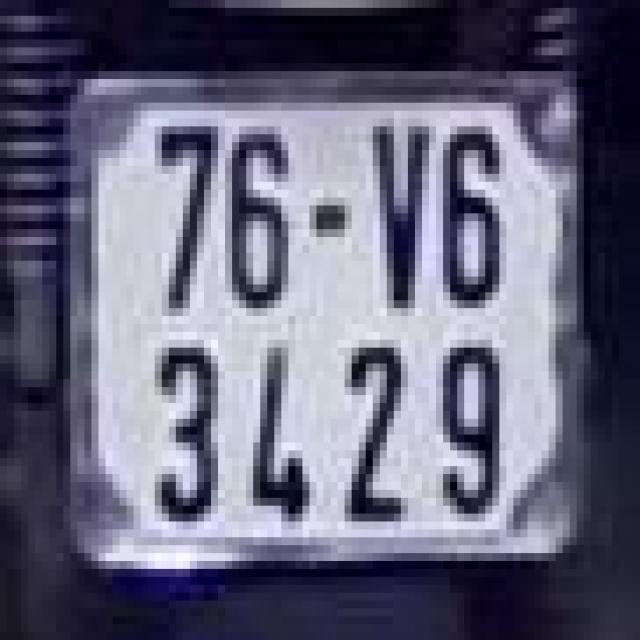2: (338, 328, 415, 533)
3: (151, 336, 229, 541)
4: (246, 328, 317, 525)
6: (436, 111, 513, 316), (228, 111, 292, 316)
7: (148, 111, 225, 324)
9: (425, 348, 517, 537)
V: (369, 103, 433, 316)
